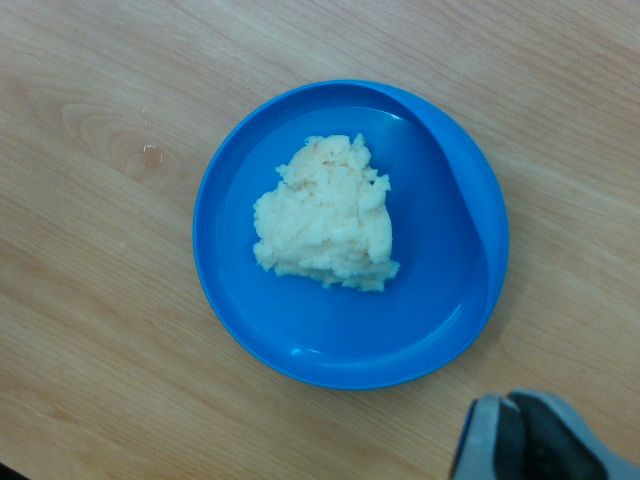mashed_potato: (253, 134, 400, 293)
